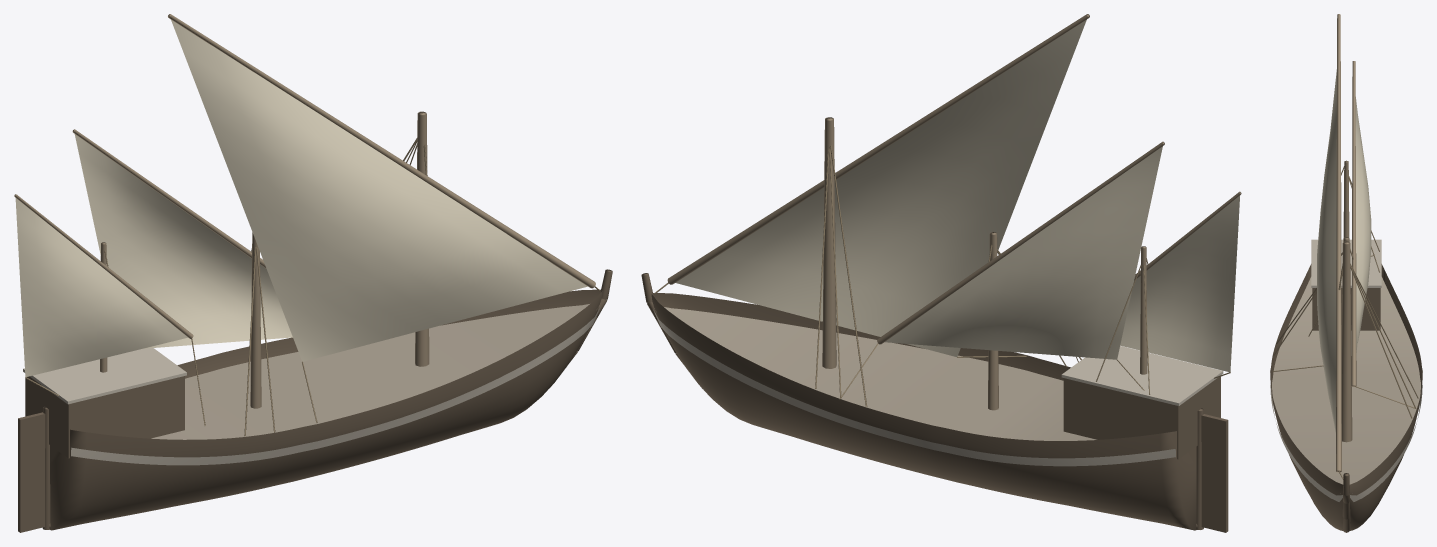
The model's file is caravel.glb.
3 views of the same model, side by side, from view 1: azimuth 30°, elevation 25°; view 2: azimuth 150°, elevation 25°; view 3: azimuth 270°, elevation 25° (orthographic). The views are drawn at different scales.
Parts seen in each view (by area): view 1: sail, hull.001, deck, spar, sterncastle, sterncastle-rail, wale, rudder, hemp, keel; view 2: sail, hull.001, deck, spar, sterncastle, sterncastle-rail, wale, rudder, hemp, keel; view 3: deck, sail, spar, hull.001, hemp, sterncastle-rail, sterncastle, wale, keel.
Part boxes in pixels (x1,y1,x2,y2): sail: (15, 20, 587, 376); hull.001: (50, 289, 602, 530); deck: (151, 304, 599, 439); spar: (14, 14, 595, 408); sterncastle: (25, 376, 184, 458); sterncastle-rail: (23, 348, 186, 404); wale: (71, 306, 600, 465); rudder: (18, 412, 45, 532); hemp: (25, 113, 599, 436); keel: (42, 269, 612, 529); sail: (675, 19, 1239, 372); hull.001: (651, 293, 1196, 530); deck: (664, 307, 1096, 440); spar: (667, 14, 1241, 410); sterncastle: (1063, 376, 1220, 459); sterncastle-rail: (1061, 346, 1223, 405); wale: (653, 309, 1175, 466); rudder: (1201, 414, 1228, 532); hemp: (654, 118, 1230, 406); keel: (641, 273, 1203, 529); deck: (1272, 277, 1420, 484); sail: (1317, 69, 1371, 432); spar: (1336, 14, 1356, 472); hull.001: (1270, 264, 1422, 530); hemp: (1272, 166, 1418, 479); sterncastle-rail: (1311, 239, 1381, 287); sterncastle: (1312, 288, 1380, 330); wale: (1270, 385, 1422, 501); keel: (1342, 473, 1350, 532).
Size of the model in its own units: 21.76 by 16.91 by 6.06.
